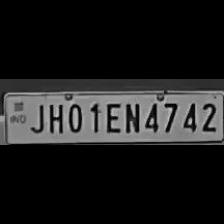0: (65, 100, 85, 134)
1: (86, 100, 102, 134)
2: (198, 99, 216, 133)
4: (178, 99, 198, 133), (141, 99, 159, 133)
7: (159, 99, 177, 133)
E: (102, 100, 120, 134)
H: (44, 100, 64, 134)
J: (28, 100, 44, 134)
N: (123, 100, 141, 132)
